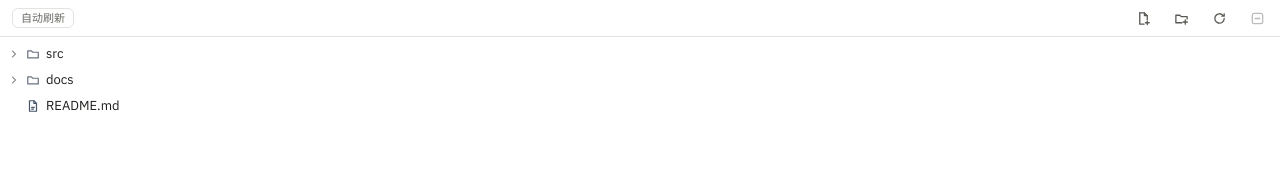
Test case: opening and the tree › renders a tree with directories first as given, and reads a directory only when it is expanded
Click the list item "src": (36, 54) 8,45 -> 64,62
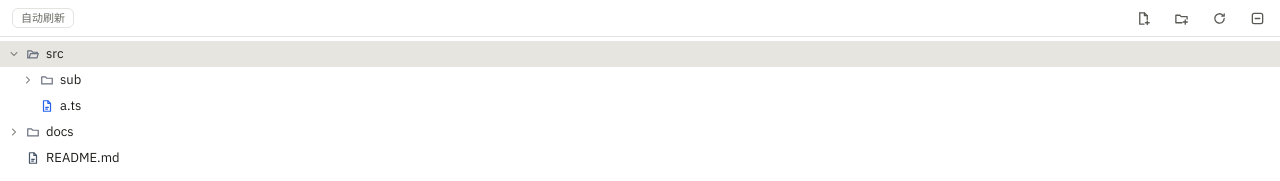
Check: the list item "a.ts" is shown, box 40,97 -> 81,114
Check: the list item "src" is expanded
Click the list item "src": (640, 54) 0,41 -> 1279,67
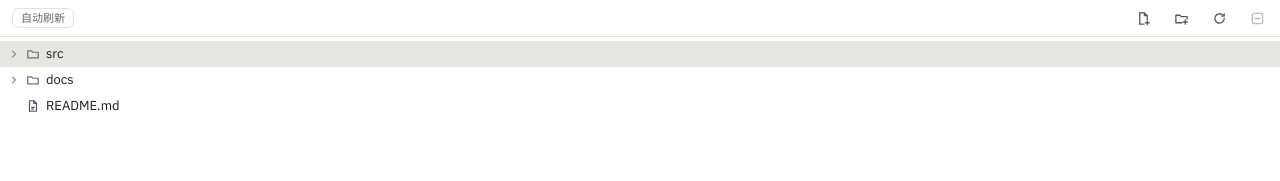
Check: the text "a.ts" is gone
